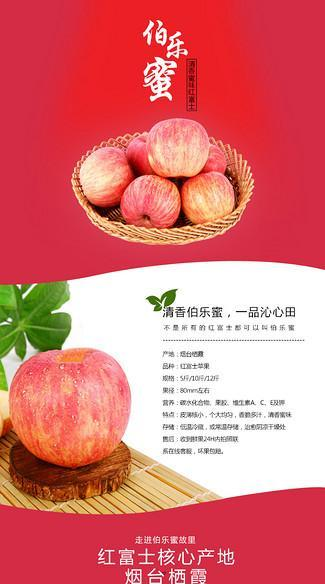apple: (6, 346, 131, 469), (147, 119, 210, 179), (79, 146, 135, 206), (121, 175, 181, 229), (180, 173, 235, 223), (126, 132, 168, 178)
